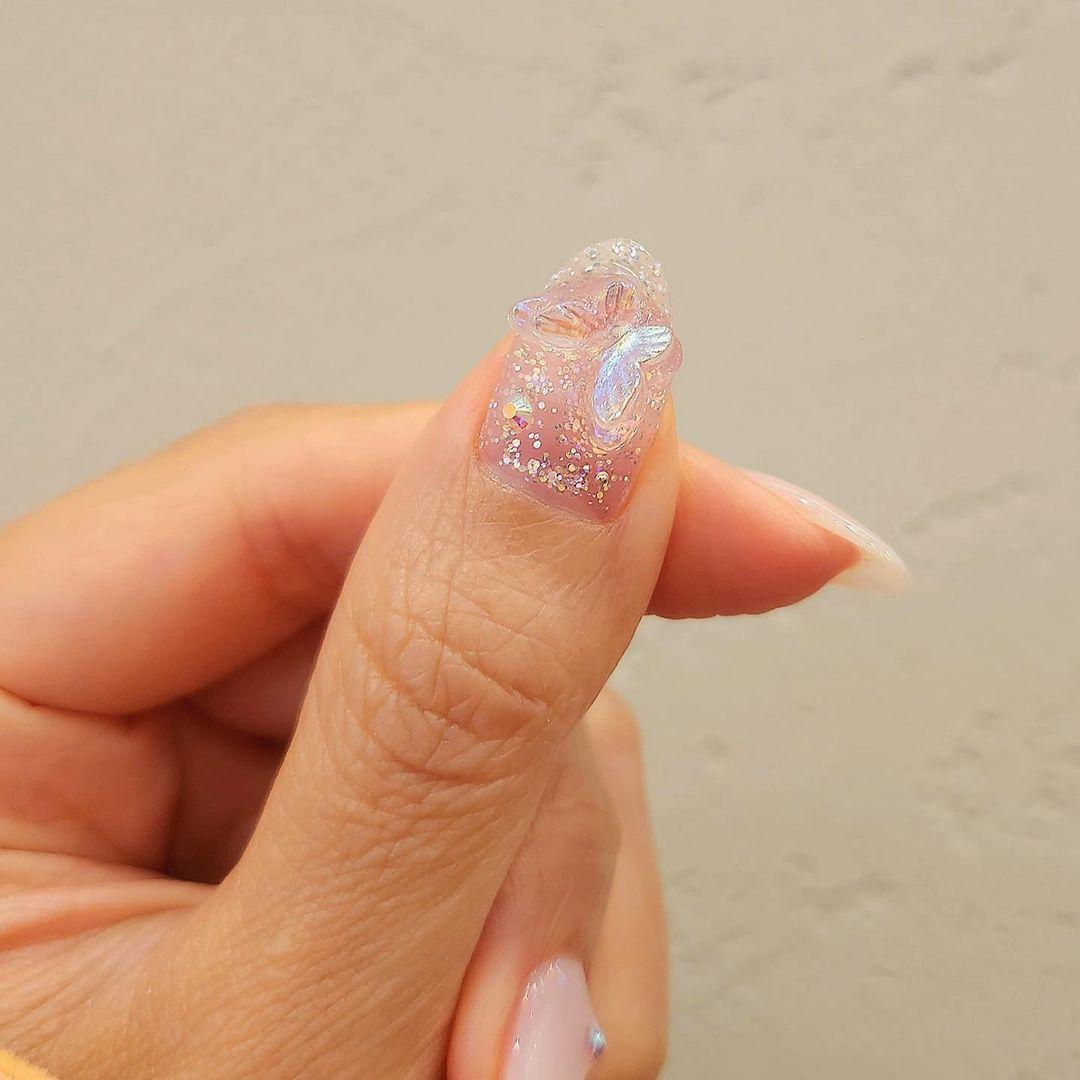nail: (472, 235, 683, 524), (736, 465, 911, 596), (496, 953, 607, 1078)
